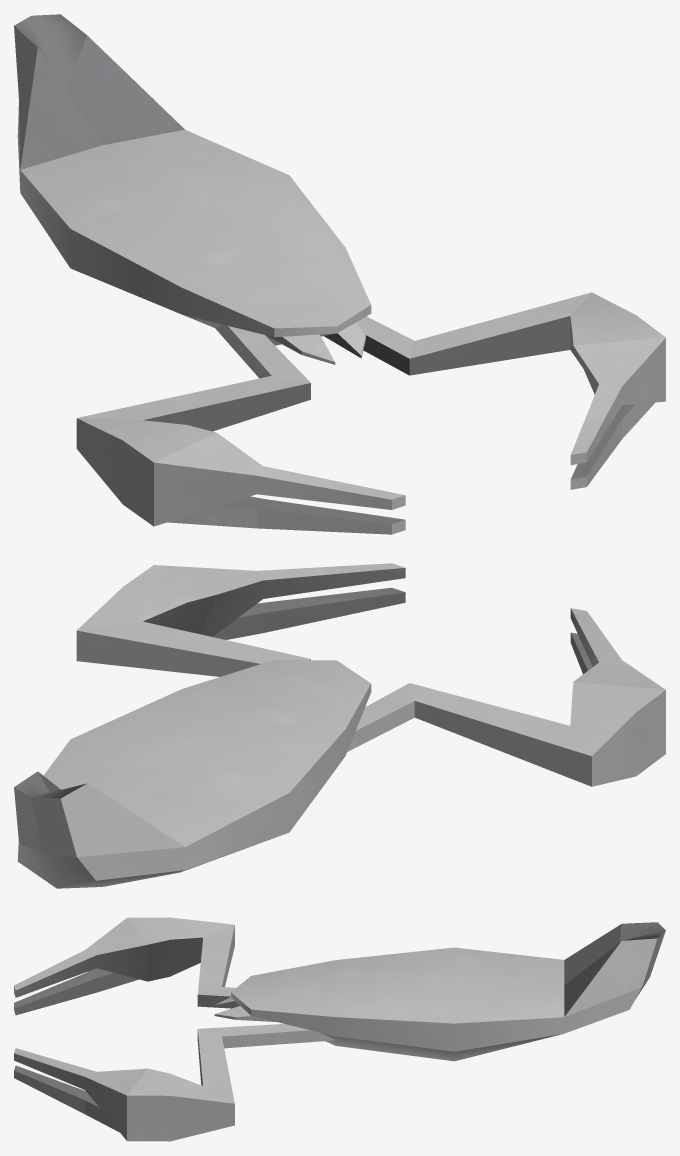
File: MOB_Scorpion_main.obj
3 views of the same model, one above another, from view 1: azimuth 30°, elevation 25°; view 2: azimuth 150°, elevation 25°; view 3: azimuth 270°, elevation 25° (orthographic). The views are drawn at different scales.
Visible parts, largest first — view 1: Body Scorpion_main, Scorpion_main R_scissors, Scorpion_main L_scissors, Scorpion_main R_scissors L_scissors_getting, Scorpion_main L_scissors L_scissors_getting, Scorpion_main R_kuti, Scorpion_main L_kuti; view 2: Body Scorpion_main, Scorpion_main R_scissors, Scorpion_main L_scissors, Scorpion_main L_scissors L_scissors_getting; view 3: Body Scorpion_main, Scorpion_main L_scissors, Scorpion_main R_scissors, Scorpion_main R_scissors L_scissors_getting, Scorpion_main L_scissors L_scissors_getting, Scorpion_main L_kuti.
Boxes of the visible parts, x1,y1,x2,y2 form: Body Scorpion_main: [14, 14, 371, 345]; Scorpion_main R_scissors: [76, 325, 405, 526]; Scorpion_main L_scissors: [356, 292, 665, 464]; Scorpion_main R_scissors L_scissors_getting: [167, 496, 405, 534]; Scorpion_main L_scissors L_scissors_getting: [570, 402, 654, 489]; Scorpion_main R_kuti: [266, 334, 335, 364]; Scorpion_main L_kuti: [324, 322, 365, 358]; Body Scorpion_main: [14, 660, 371, 888]; Scorpion_main R_scissors: [347, 608, 665, 786]; Scorpion_main L_scissors: [76, 563, 405, 676]; Scorpion_main L_scissors L_scissors_getting: [213, 587, 405, 639]; Body Scorpion_main: [231, 922, 665, 1061]; Scorpion_main L_scissors: [14, 1024, 334, 1141]; Scorpion_main R_scissors: [14, 917, 235, 1008]; Scorpion_main R_scissors L_scissors_getting: [14, 968, 138, 1015]; Scorpion_main L_scissors L_scissors_getting: [14, 1065, 119, 1132]; Scorpion_main L_kuti: [214, 1006, 275, 1021].
Bounding box in the file's own units: 0.6219 × 0.2123 × 0.9572.
Materials: 1 (1 with a texture image).
